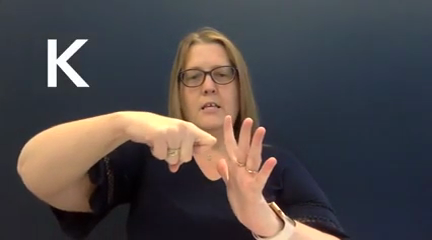K: (128, 106, 289, 232)
